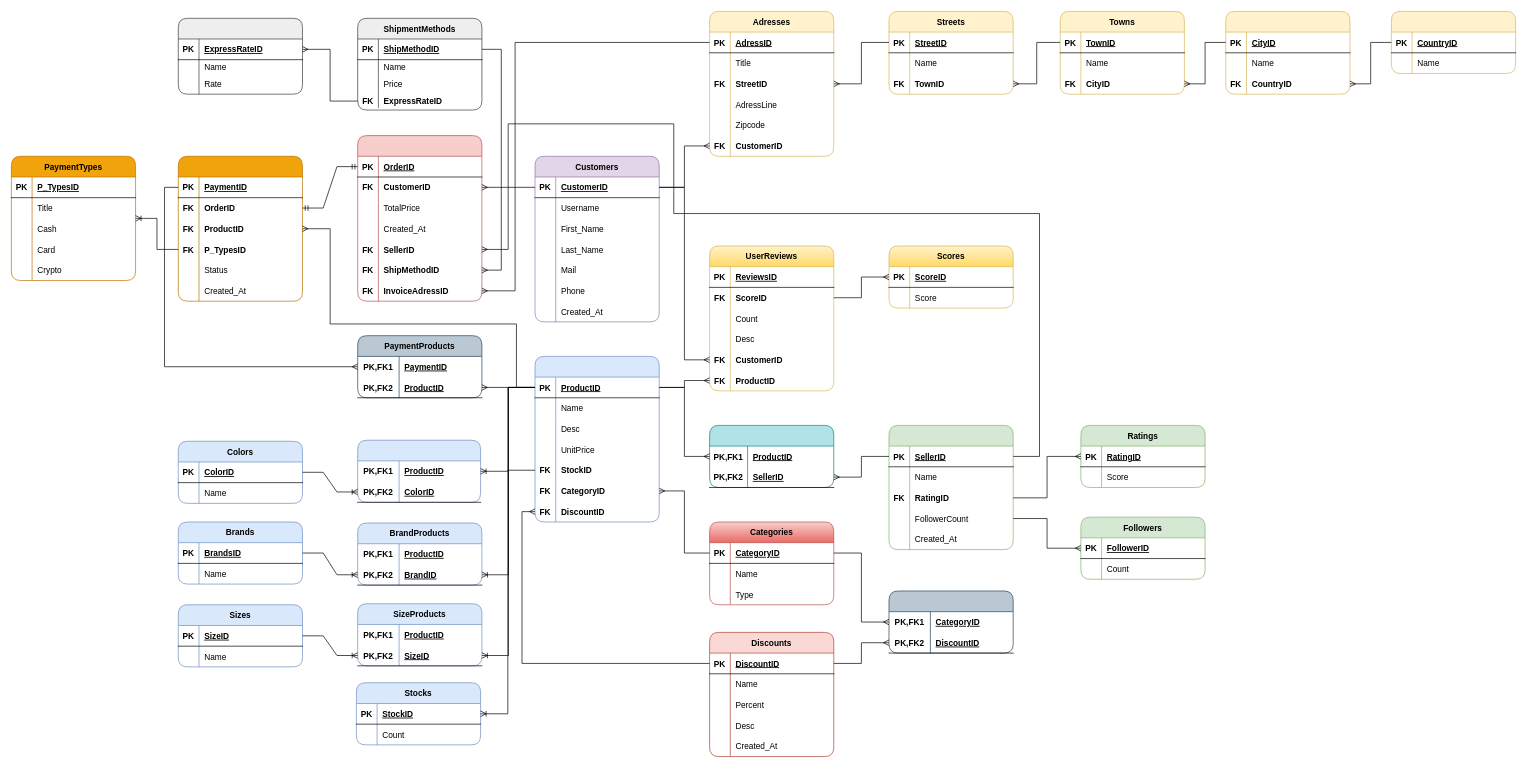
Some shapes in this 1527 by 768 pixel diagram are drawn without their labels. The shapes that lost their labels are listed below. From the top down, each one's box as (x1, y1, x2, y2) in pixels, then its label:
(178, 18, 302, 94): ExpressRates
(1225, 11, 1350, 94): Cities
(1391, 11, 1516, 73): Countries
(178, 156, 302, 301): PaymentDetails
(357, 135, 482, 301): OrderDetails
(534, 356, 659, 522): Products
(709, 425, 834, 487): ProductSellers
(357, 440, 481, 502): ColorProducts
(888, 425, 1013, 550): Sellers
(888, 590, 1013, 653): DiscountsCategories
